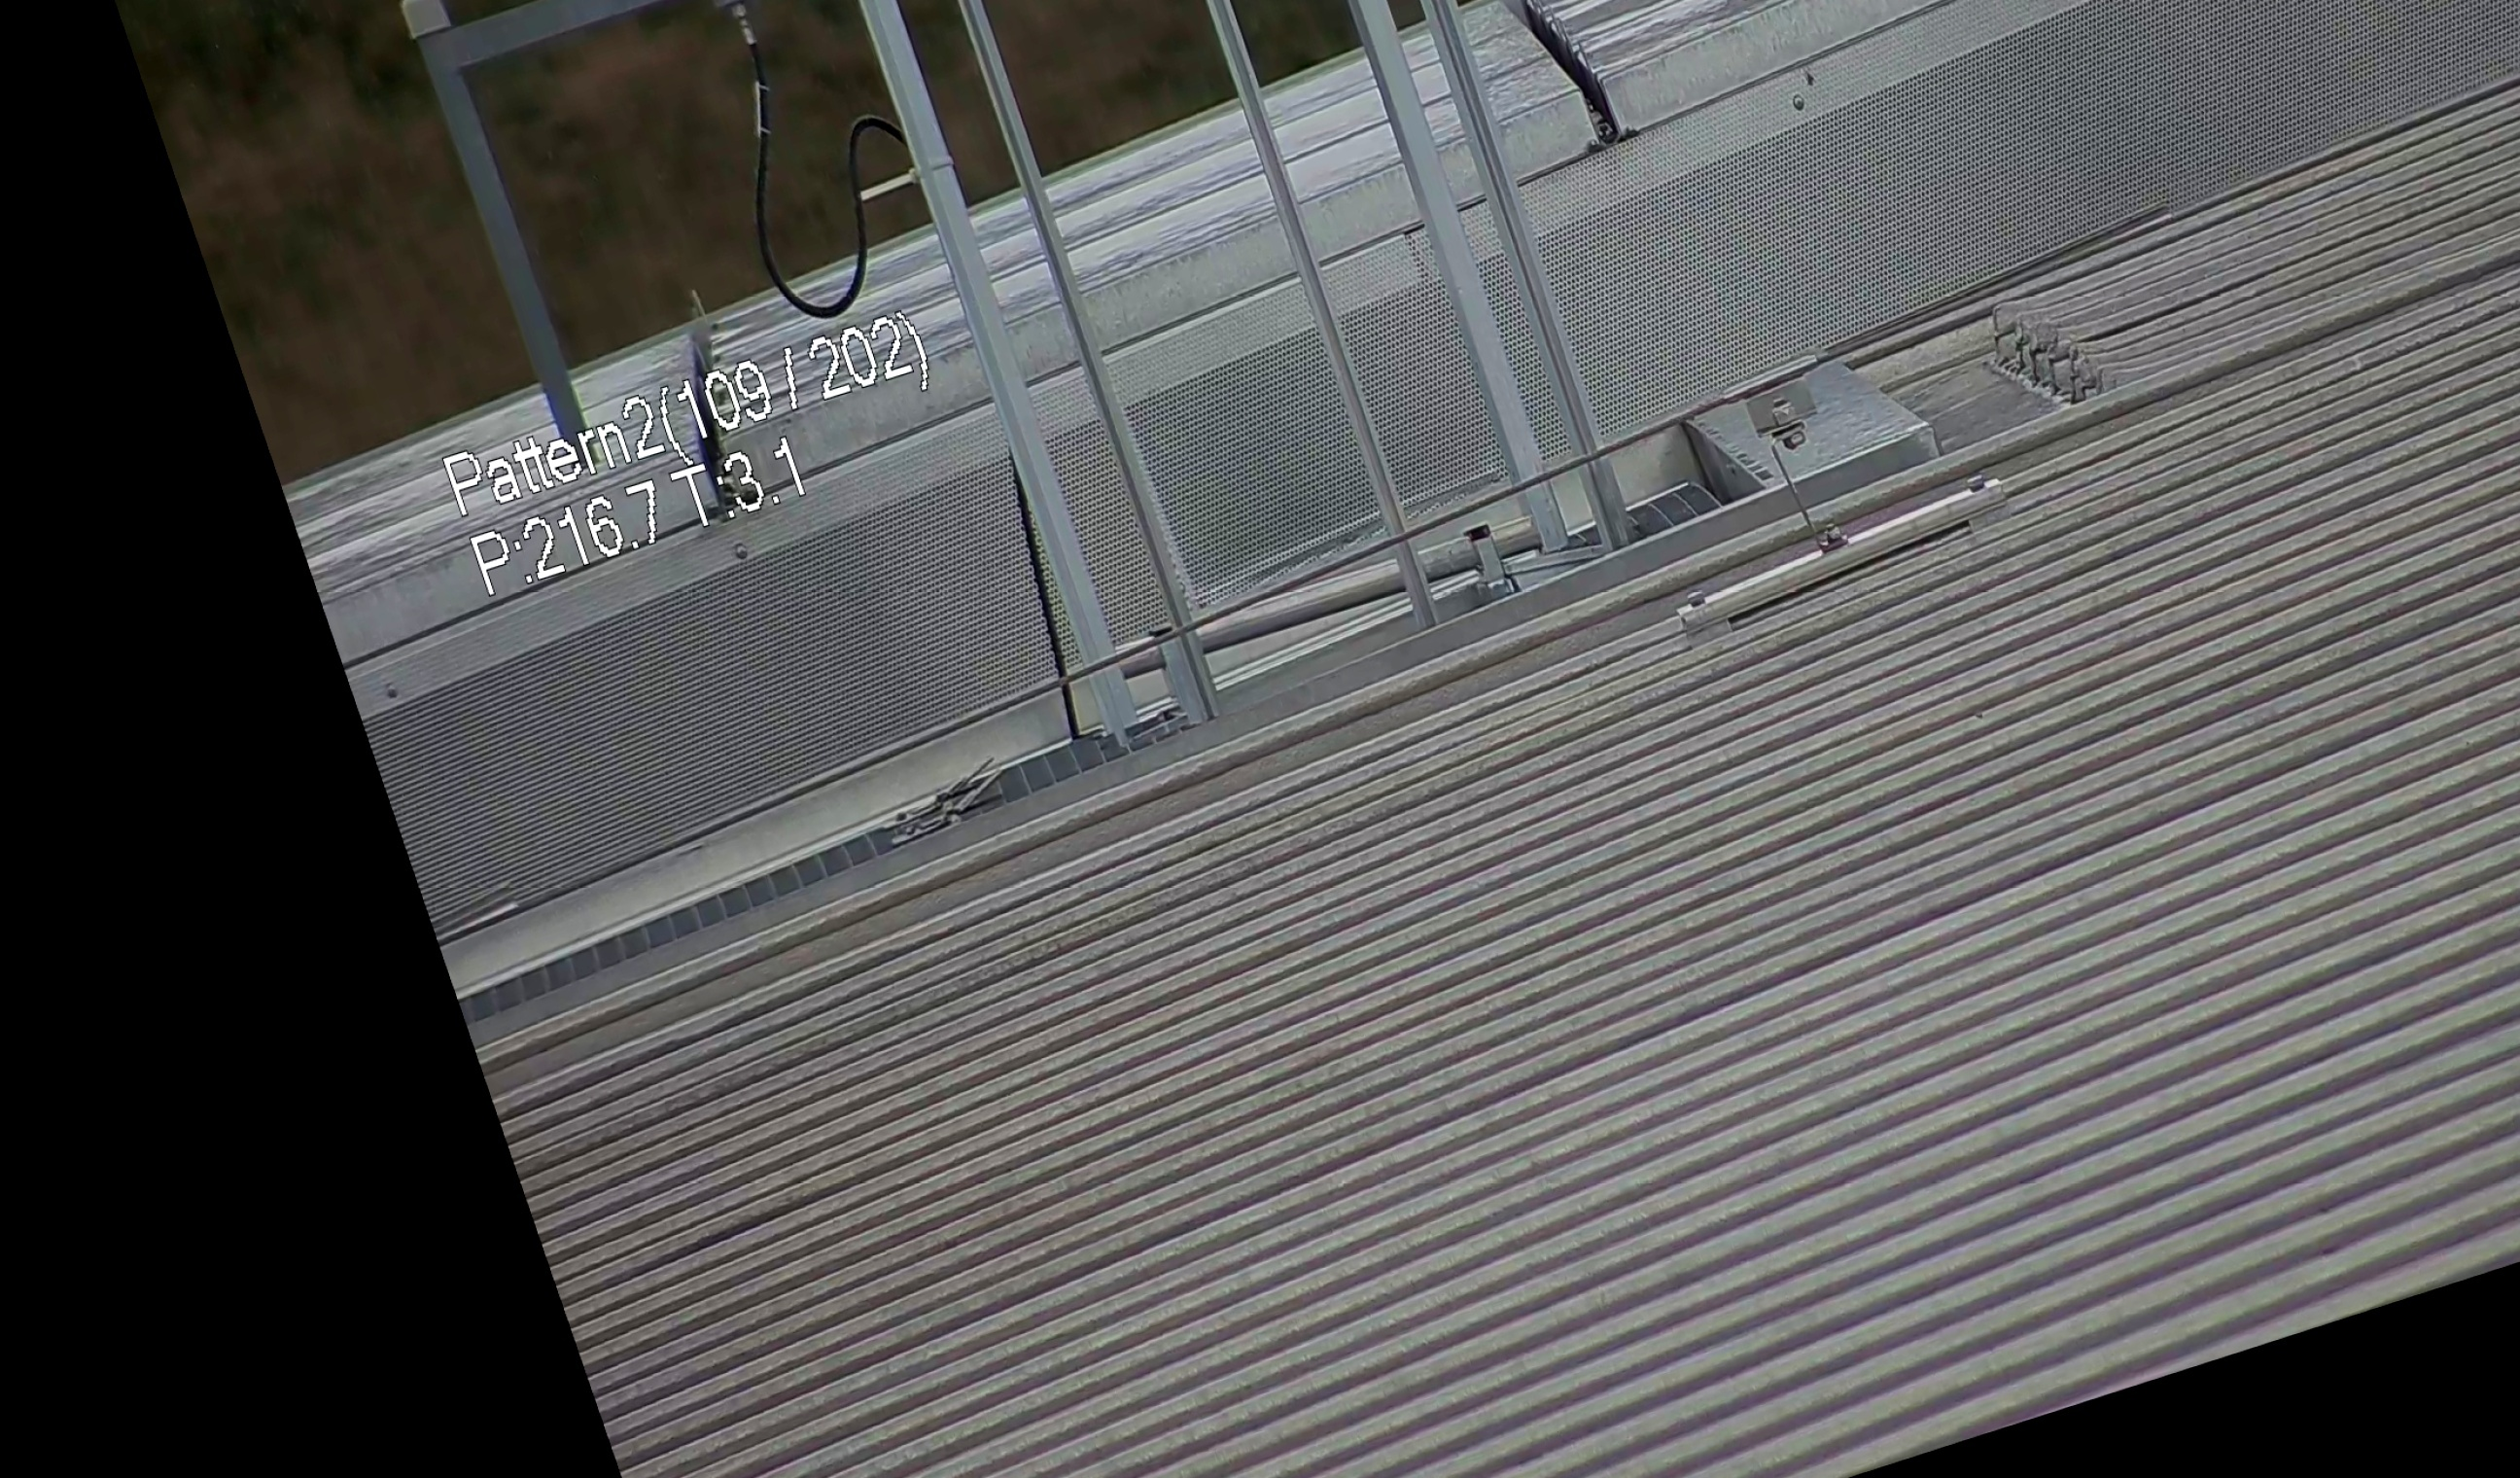Other: (1477, 0, 1641, 174)
